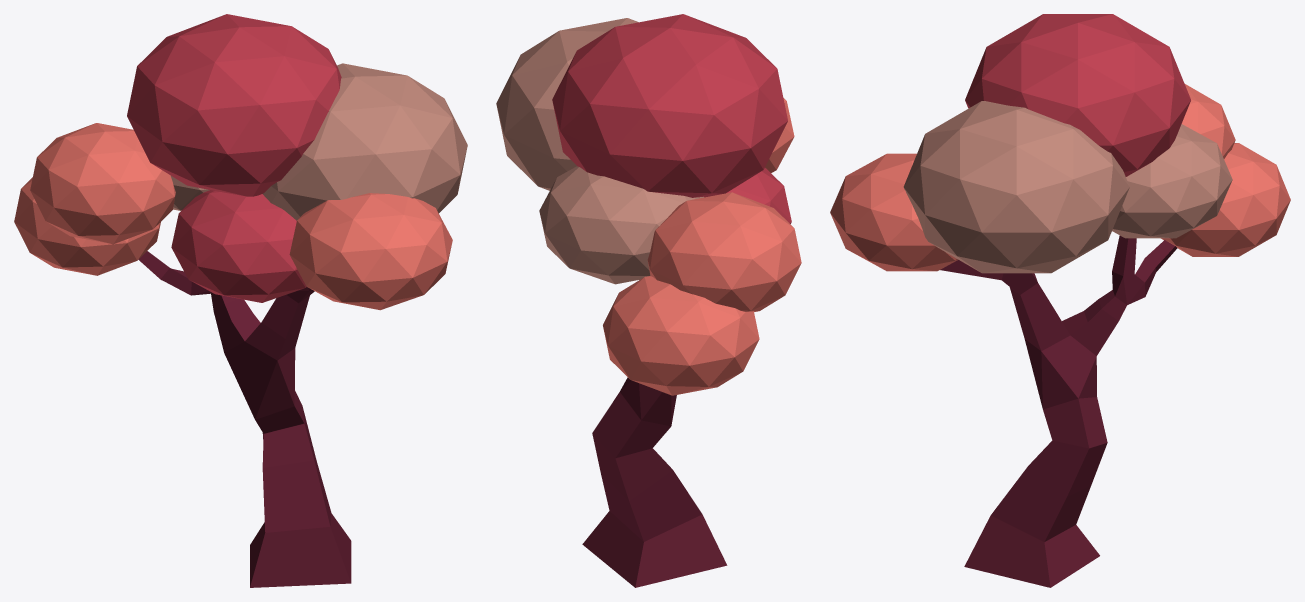
The model's file is Tree1_Pink_b.fbx.
The picture shows the model from 3 angles, left to right: view 1: azimuth 30°, elevation 25°; view 2: azimuth 150°, elevation 25°; view 3: azimuth 270°, elevation 25°; orthographic projection. The views are drawn at different scales.
Parts seen in each view (by area): view 1: Icosphere.018, Cube.002, Icosphere.016, Icosphere.017, Icosphere.019, Icosphere.020, Icosphere.014, Icosphere.015; view 2: Icosphere.018, Cube.002, Icosphere.019, Icosphere.014, Icosphere.015, Icosphere.016, Icosphere.020, Icosphere.017; view 3: Icosphere.016, Cube.002, Icosphere.018, Icosphere.017, Icosphere.015, Icosphere.014, Icosphere.019.
Part boxes in pixels (<box>): Icosphere.018: <box>127,14,341,196</box>; Cube.002: <box>138,251,351,587</box>; Icosphere.016: <box>263,63,467,220</box>; Icosphere.017: <box>289,193,452,310</box>; Icosphere.019: <box>30,123,175,244</box>; Icosphere.020: <box>171,190,306,302</box>; Icosphere.014: <box>14,177,160,275</box>; Icosphere.015: <box>171,176,209,210</box>; Icosphere.018: <box>552,14,787,197</box>; Cube.002: <box>582,377,727,587</box>; Icosphere.019: <box>647,192,801,311</box>; Icosphere.014: <box>603,275,759,395</box>; Icosphere.015: <box>539,166,703,284</box>; Icosphere.016: <box>496,18,638,190</box>; Icosphere.020: <box>726,168,791,223</box>; Icosphere.017: <box>765,98,794,172</box>; Icosphere.016: <box>903,101,1129,273</box>; Cube.002: <box>940,235,1177,587</box>; Icosphere.018: <box>965,14,1190,176</box>; Icosphere.017: <box>830,153,958,271</box>; Icosphere.015: <box>1112,124,1232,238</box>; Icosphere.014: <box>1161,143,1290,256</box>; Icosphere.019: <box>1181,84,1235,158</box>.
Size of the model in its own units: 602 by 913 by 730.
